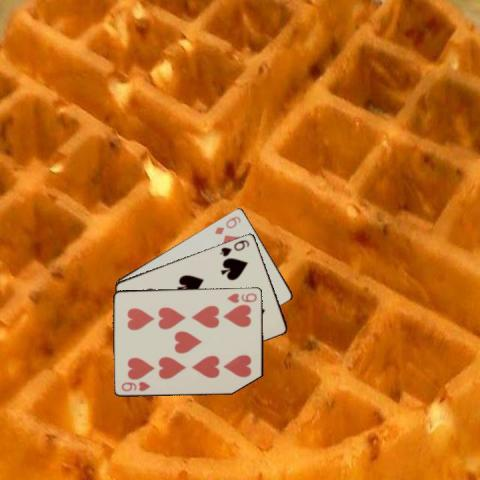6d: (211, 214, 242, 236)
6s: (217, 237, 251, 257)
9h: (224, 289, 259, 304), (119, 378, 152, 392)
